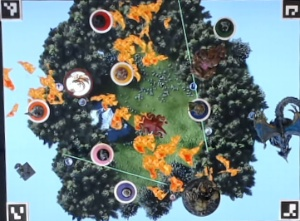blue: (186, 96, 212, 123)
green: (212, 16, 238, 41)
orange: (26, 98, 50, 122)
pink: (89, 141, 115, 166)
red: (87, 8, 114, 33)
violet: (112, 178, 138, 204)
yellow: (109, 60, 133, 85)
